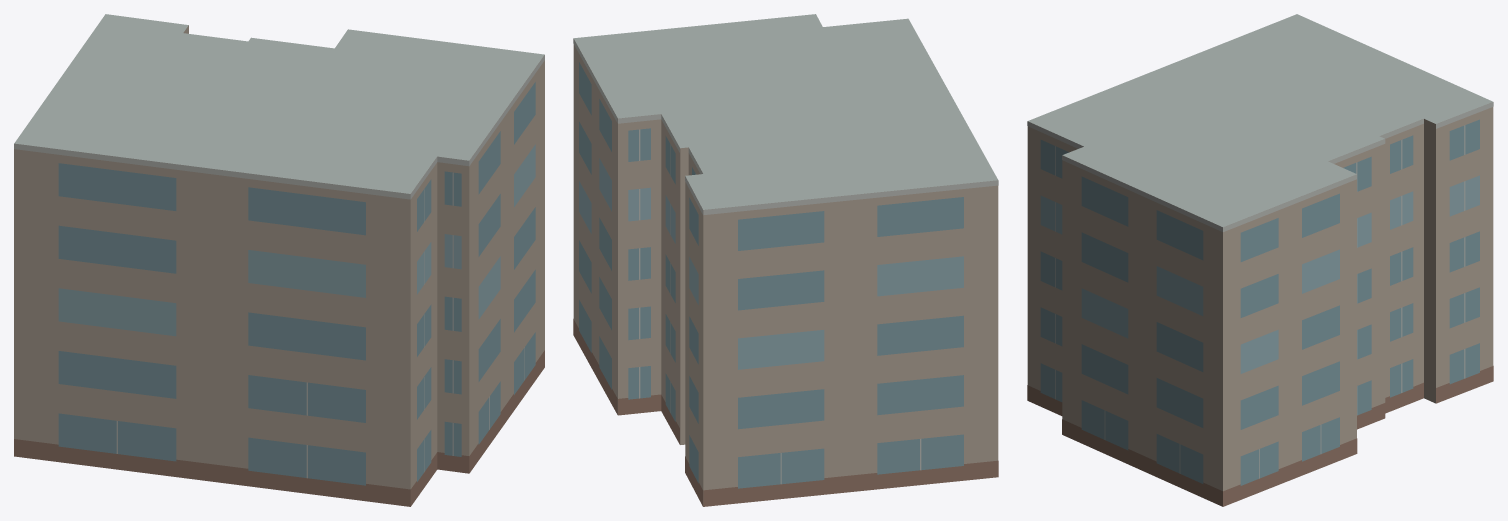
File: survey-upis-32962610.glb
3 views of the same model, side by side, from view 1: azimuth 30°, elevation 25°; view 2: azimuth 150°, elevation 25°; view 3: azimuth 270°, elevation 25° (orthographic). The views are drawn at different scales.
Parts seen in each view (by area): view 1: survey-upis-32962610.tmp; view 2: survey-upis-32962610.tmp; view 3: survey-upis-32962610.tmp.
Boxes of the visible parts, x1,y1,x2,y2 form: survey-upis-32962610.tmp: (14,14,544,506); survey-upis-32962610.tmp: (573,14,998,506); survey-upis-32962610.tmp: (1027,14,1493,506).
Size of the model in its own units: 22.59 by 13.8 by 20.85.
